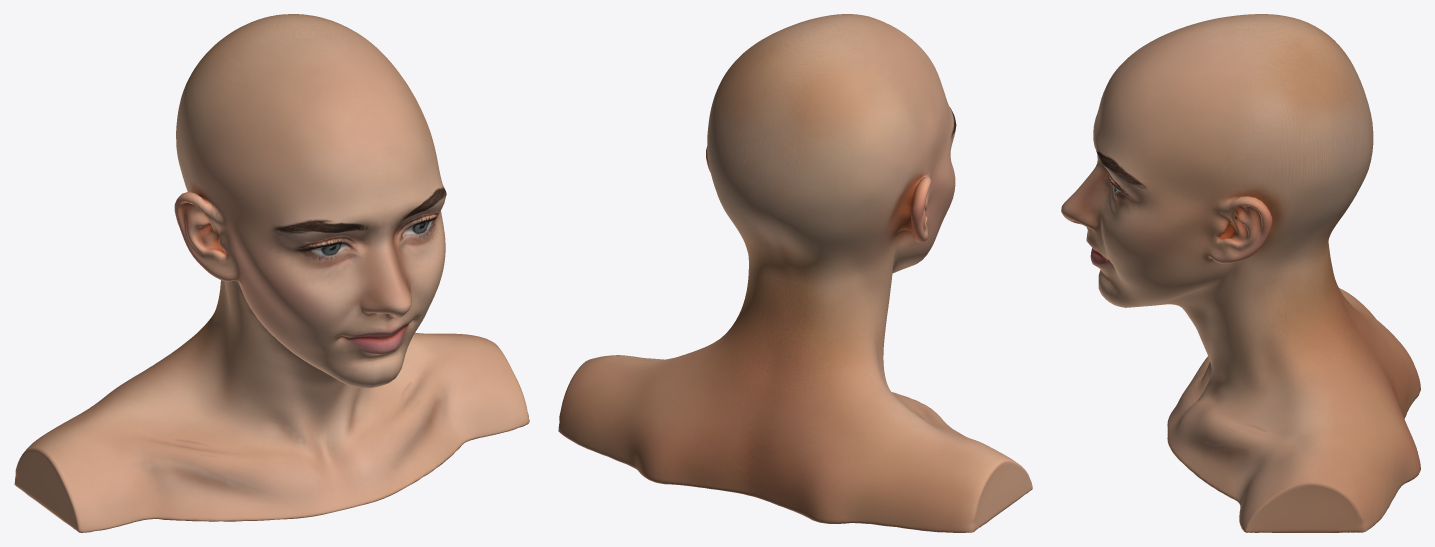
Rendered from 3c_head.glb.
3 renders of one model, left to right at view 1: azimuth 30°, elevation 25°; view 2: azimuth 150°, elevation 25°; view 3: azimuth 270°, elevation 25°, orthographic. The views are drawn at different scales.
Parts seen in each view (by area): view 1: model; view 2: model; view 3: model.
Boxes of the visible parts, x1=… form: model: x1=14, y1=14, x2=529, y2=532; model: x1=558, y1=14, x2=1032, y2=532; model: x1=1061, y1=14, x2=1420, y2=532.
Bounding box in the file's own units: 1.9 × 1.79 × 1.43.
Materials: 1 (1 with a texture image).
